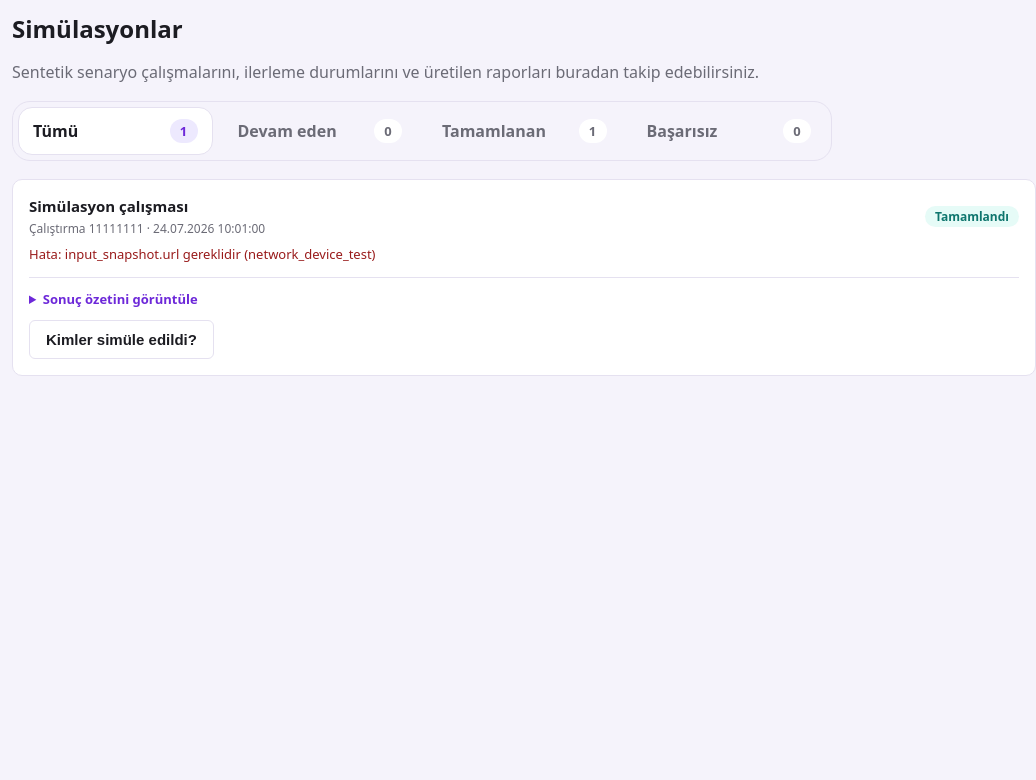
Simulations - 'Kimler simüle edildi?' persona paneli › 200 + [] durumunda hata degil, normal bos durum gosterir
This screenshot has width=1036, height=780.
Expected: the text "Çalıştırma 11111111 · 24.07.2026 10:01:00" is shown, [29,220,265,237]
Click the button "Kimler simüle edildi?" at (121, 340), box [29,320,214,359]
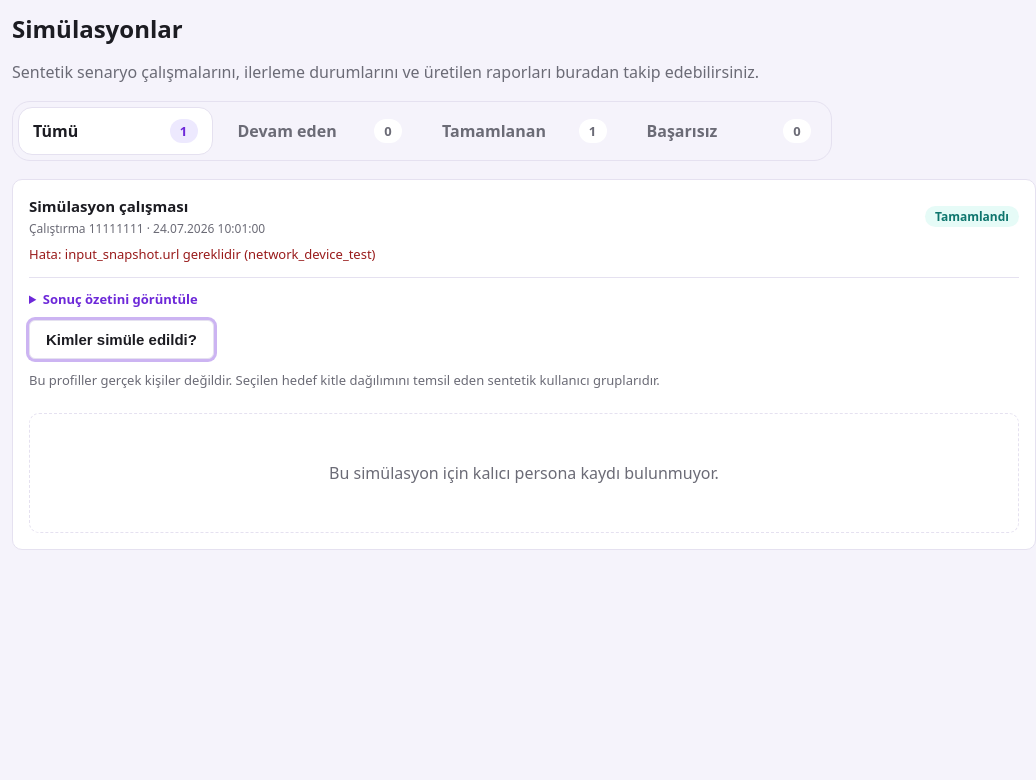
Expected: the text "Bu simülasyon için kalıcı persona kaydı bulunmuyor." is shown, [329,462,719,484]
